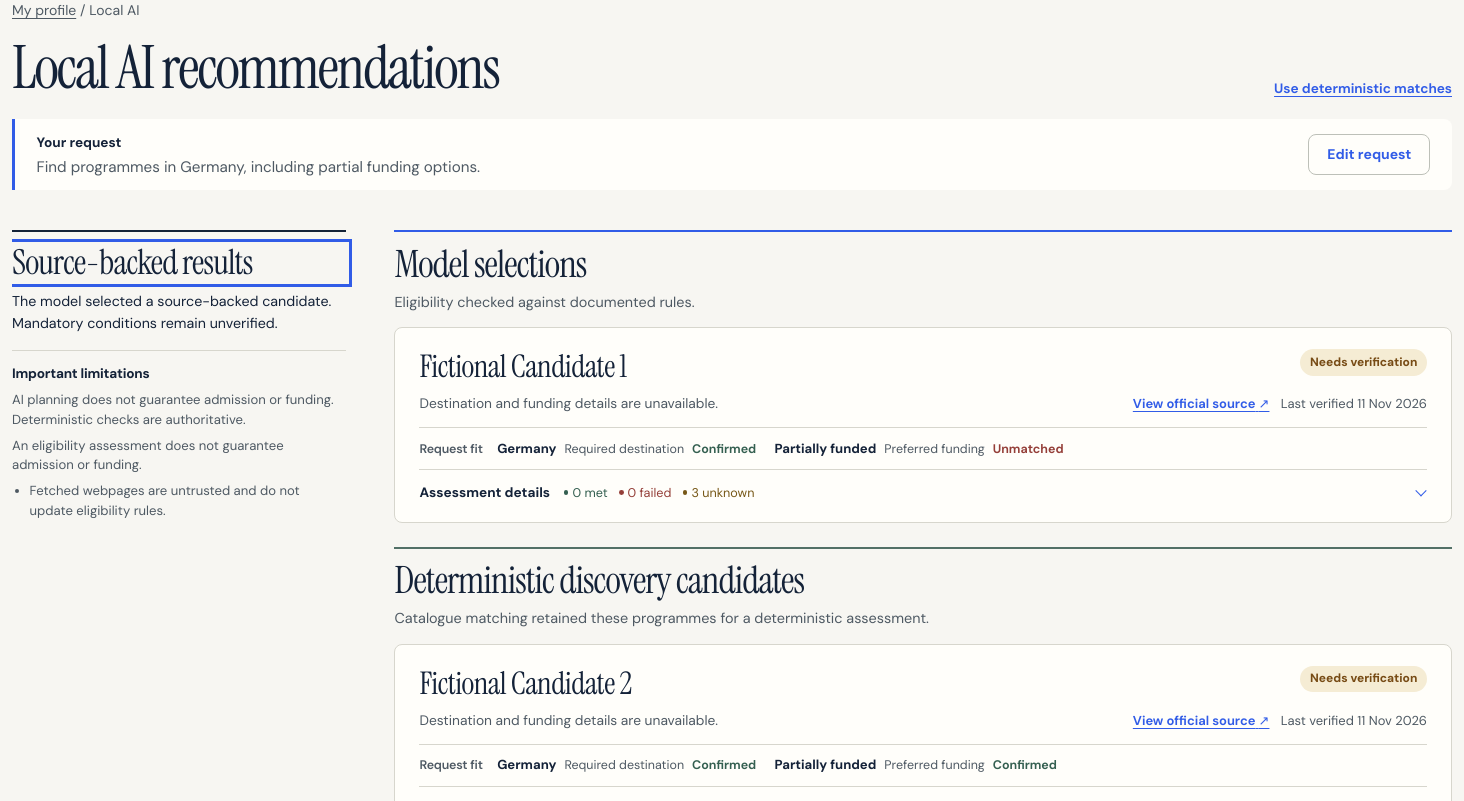
Test: local agent recommendations › displays different request fits for Germany and Japan with the same profile
The width and height of the screenshot is (1464, 801).
Earlier steps of the test are not shown.
Expected: the text "Required destination" in the row of "Unmatched" is shown, [564,440,684,459]
Expected: the text "Germany" in the row of "Unmatched" is shown, [497,440,556,457]
Click the text "Assessment details" below "Fictional Candidate 1": coordinates (485, 492) [420,482,550,503]
(page scrolled)
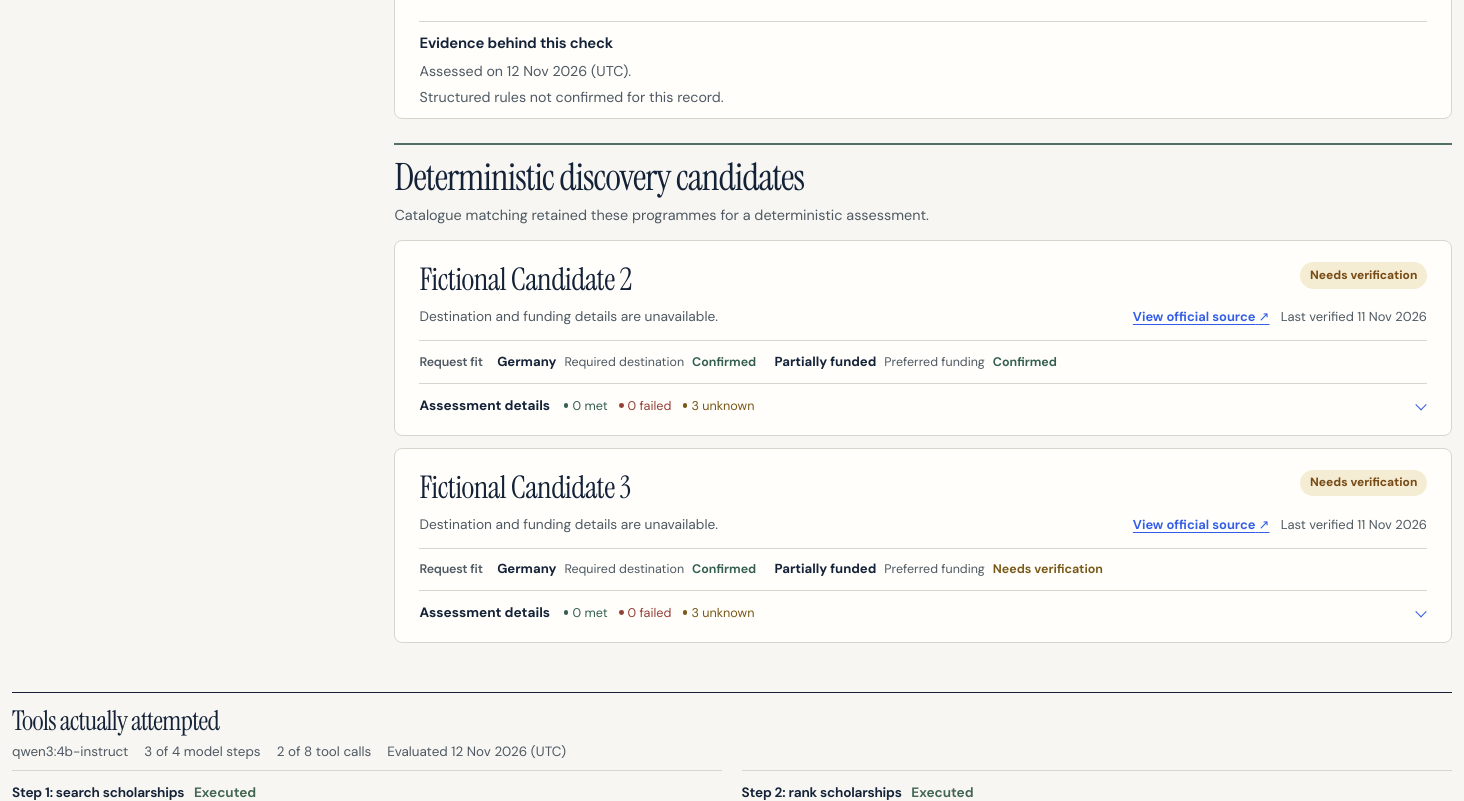
Expected: the element "Request fit" shows "Confirmed", [692,354,756,370]
Expected: the element "Request fit" shows "Needs verification", [993,561,1103,577]
Click the text "Assessment details" below "Fictional Candidate 2": coordinates (485, 406) [420,395,550,416]
(page scrolled)
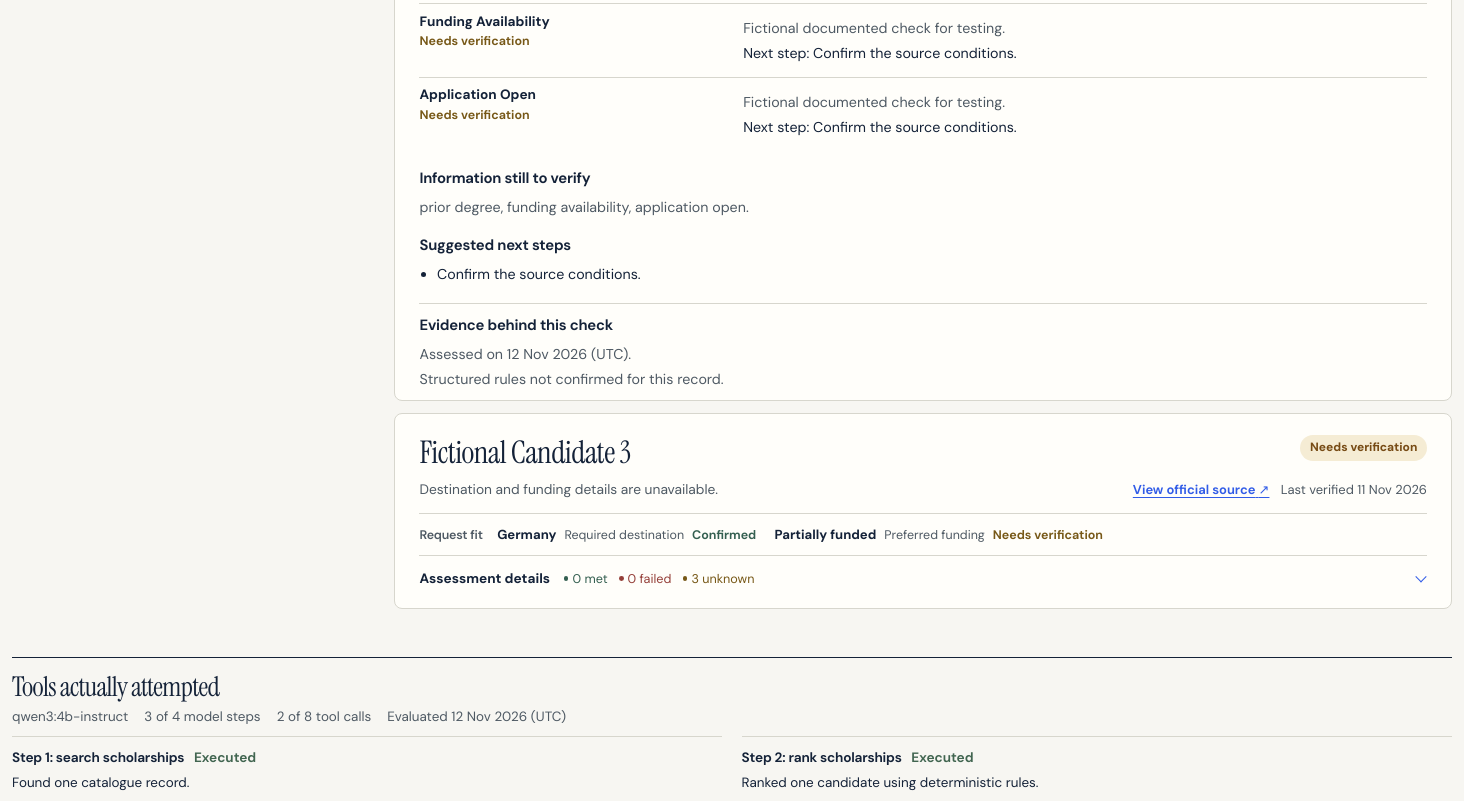
Click the text "Assessment details": coordinates (485, 578) [420,568,550,589]
(page scrolled)
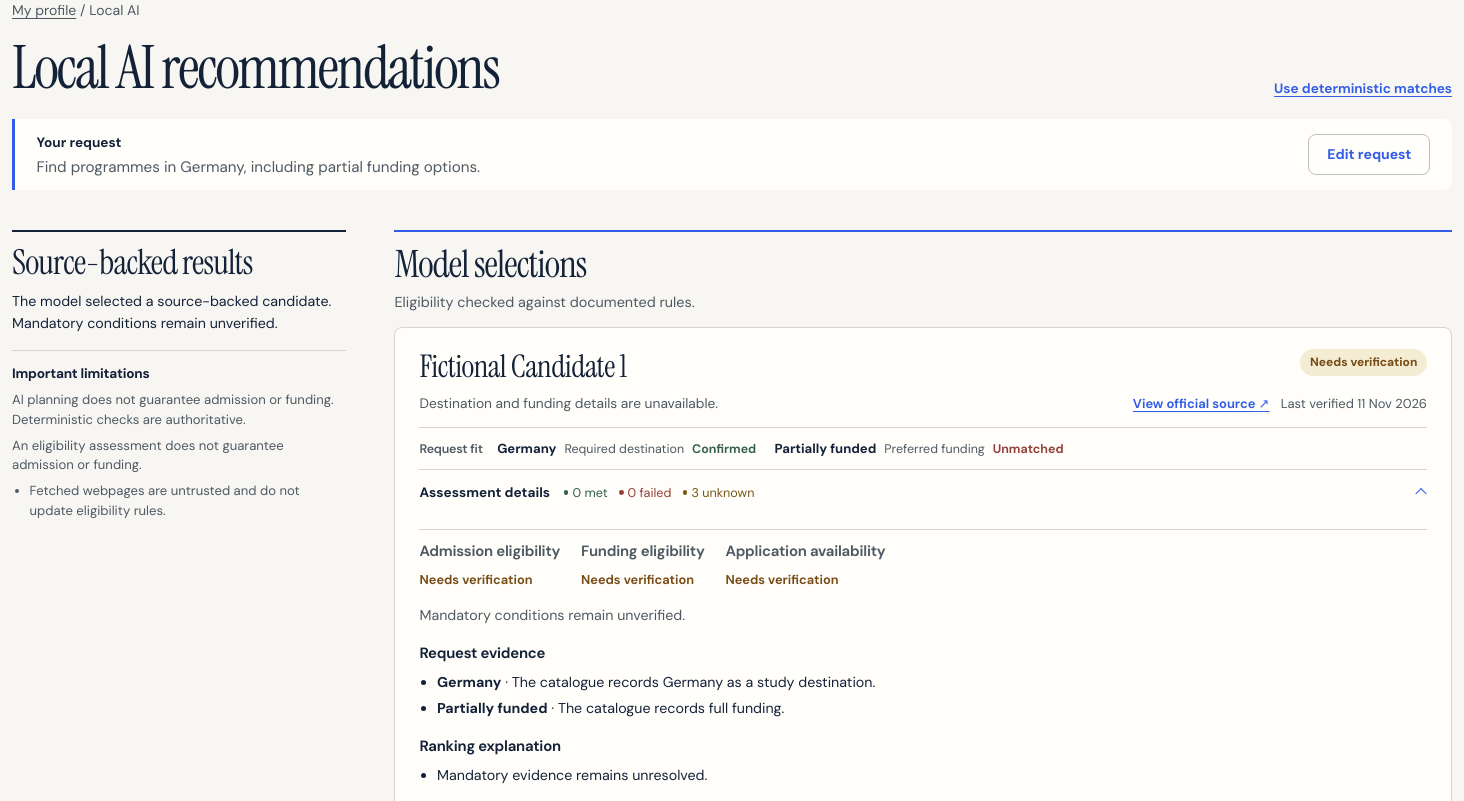
Click the button "Edit request": coordinates (1369, 155) [1308,134,1430,175]
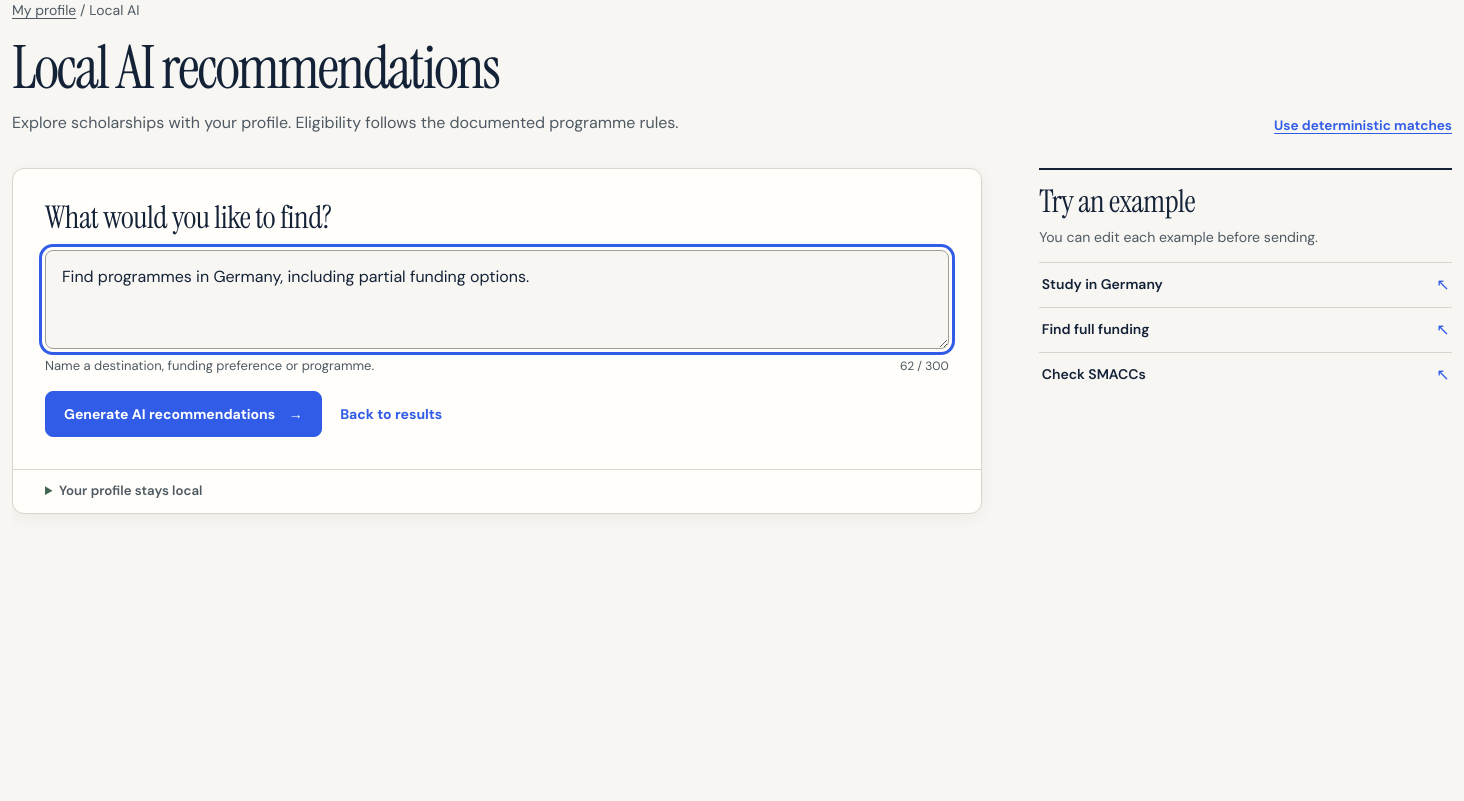
Replace the text in the text box labelled "What would you like to find?" with "Find programmes in Japan.": coordinates (497, 300) [45,250,949,349]
Click the button "Generate AI recommendations →": coordinates (183, 414) [45,391,322,437]
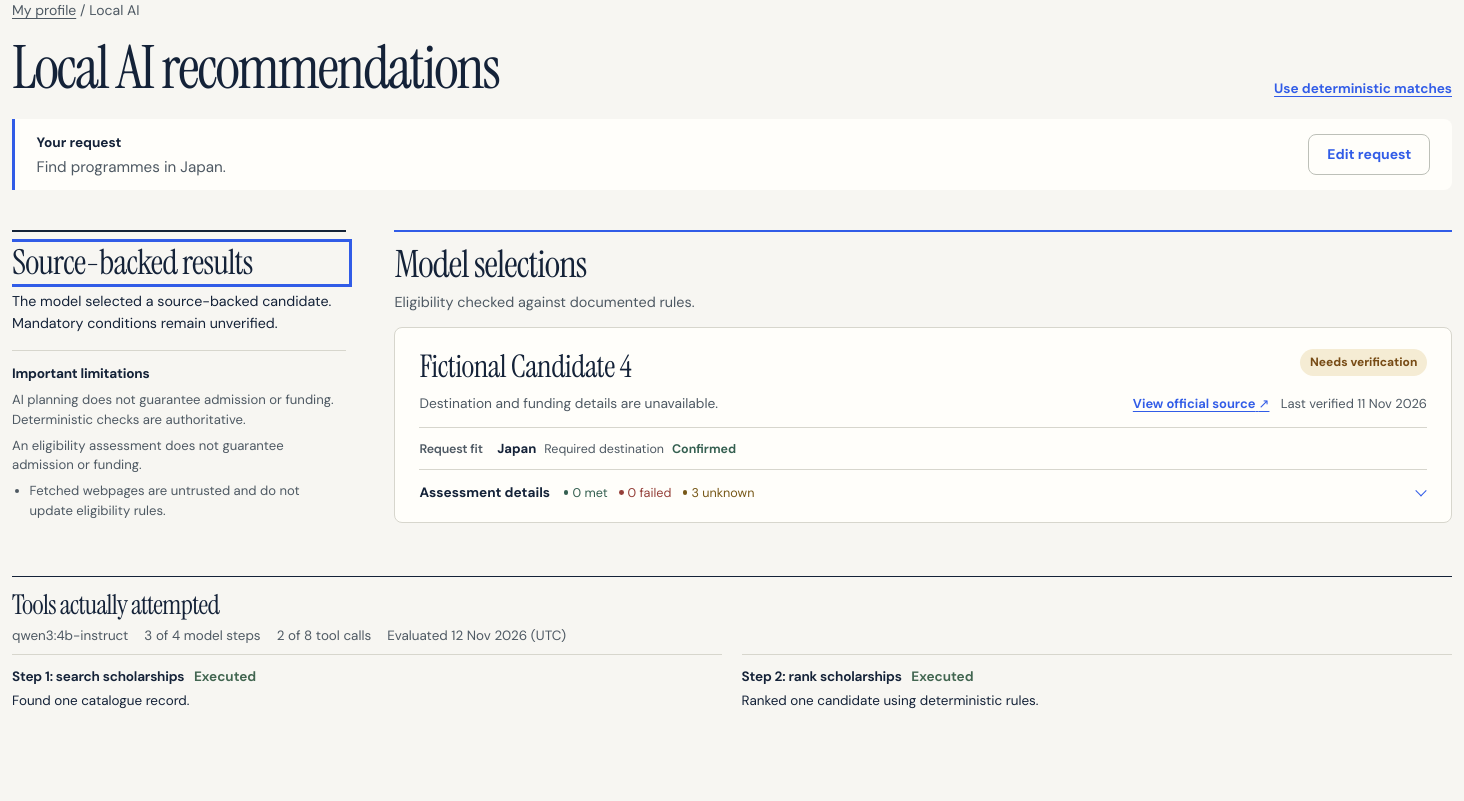
Expected: the element "Request fit" shows "Japan", [497,440,536,457]
Click the text "Assessment details": coordinates (485, 492) [420,482,550,503]
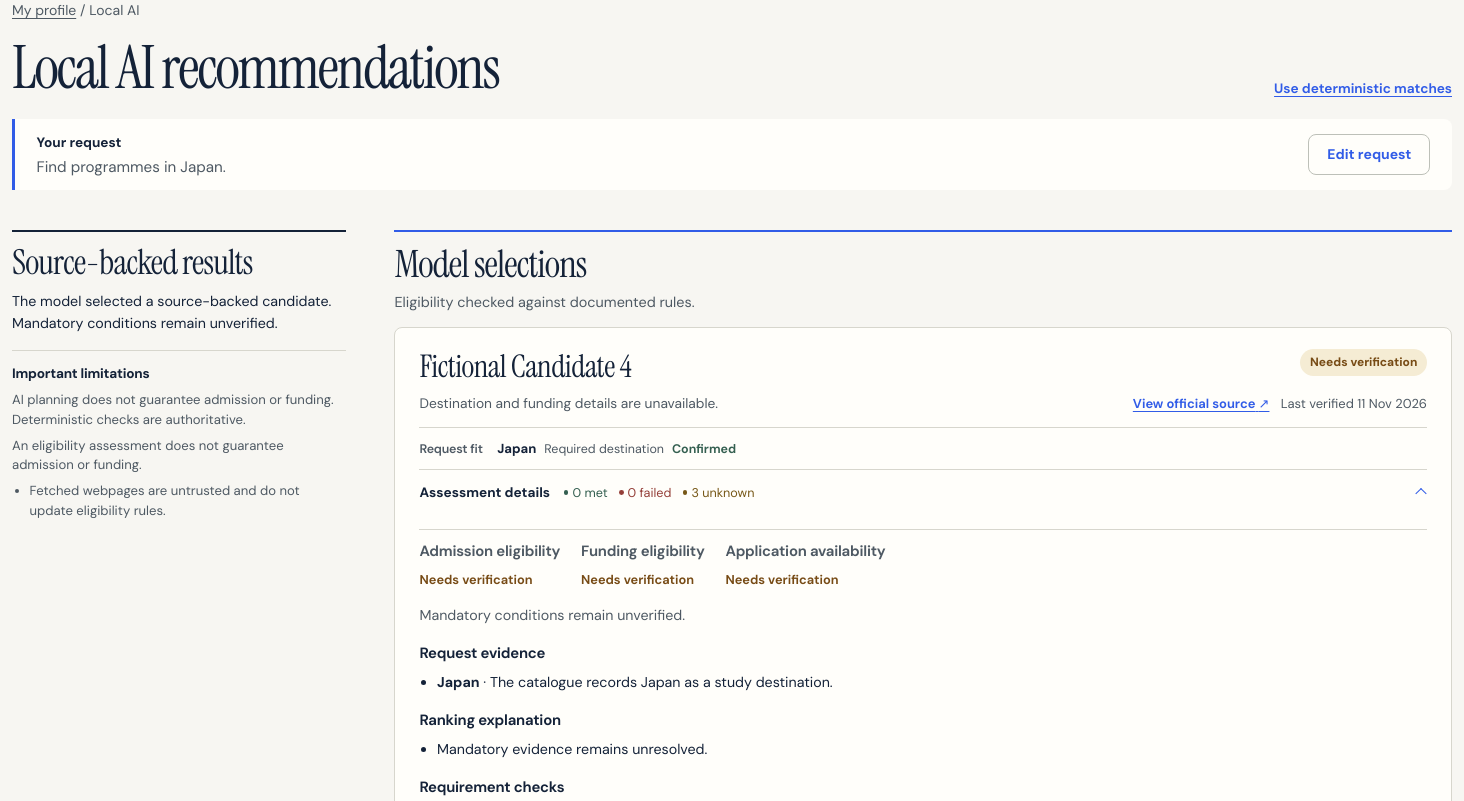
Expected: the heading "Fictional Candidate 1" is not shown
Expected: the heading "Fictional Candidate 4" is shown, [420,349,631,384]
Expected: the element "Request evidence" shows "The catalogue records Japan as a study destination.", [490,673,833,691]
